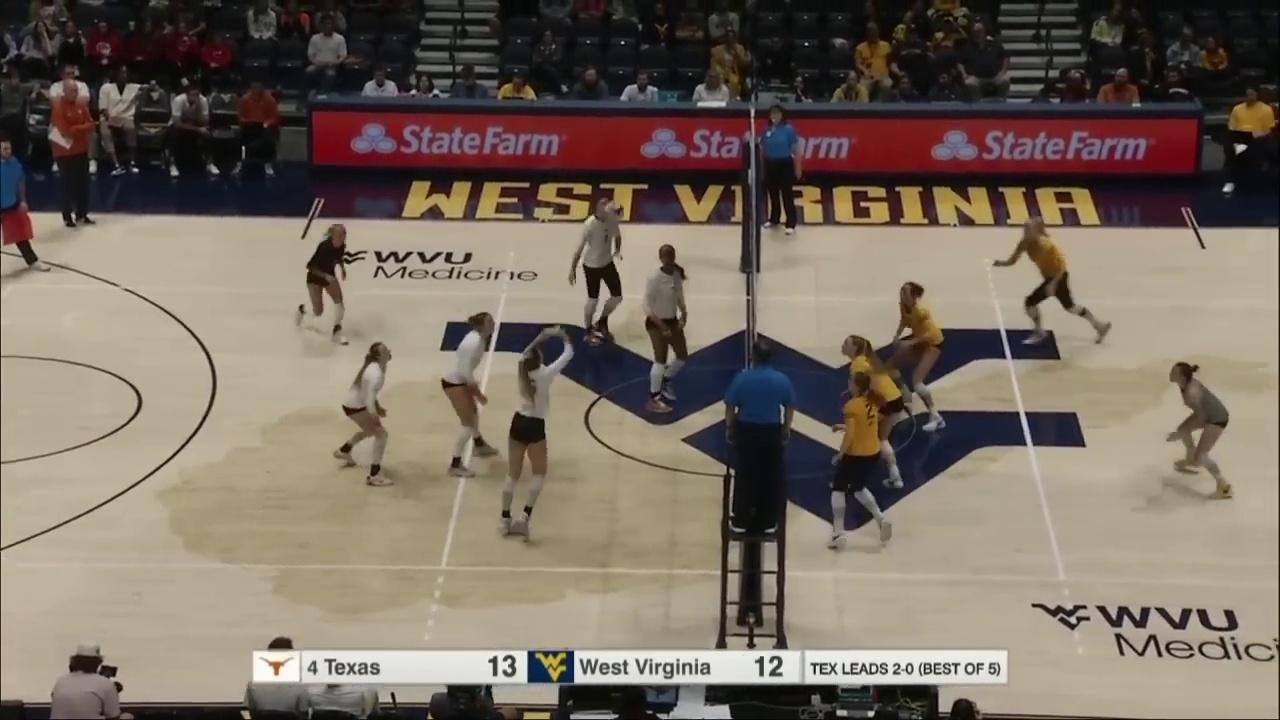player: (498, 327, 575, 540), (992, 216, 1113, 346), (828, 372, 890, 547), (842, 336, 903, 489), (443, 313, 499, 475), (333, 343, 395, 485), (1169, 362, 1233, 499), (888, 283, 946, 431), (569, 196, 624, 344), (644, 245, 689, 413), (295, 223, 349, 345)
refree: (725, 339, 796, 533), (1, 139, 48, 272), (757, 105, 802, 234)
